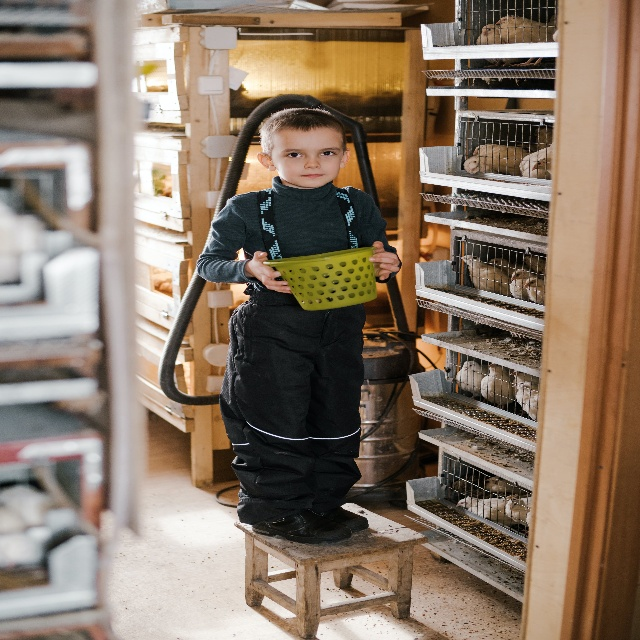Sin_guantes: (250, 251, 291, 293), (368, 240, 400, 282)
